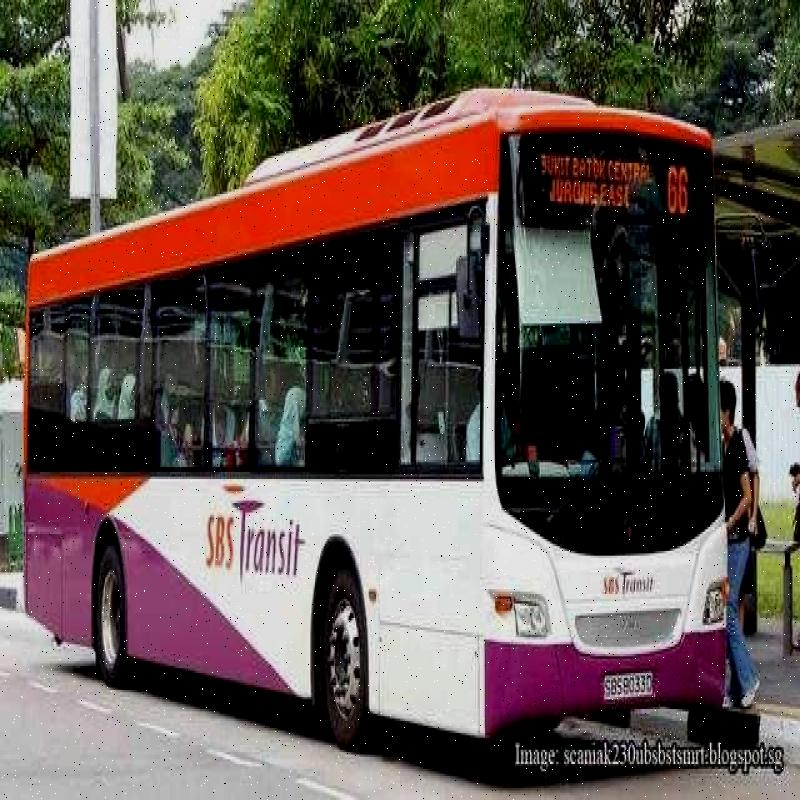bus: (12, 45, 730, 767)
